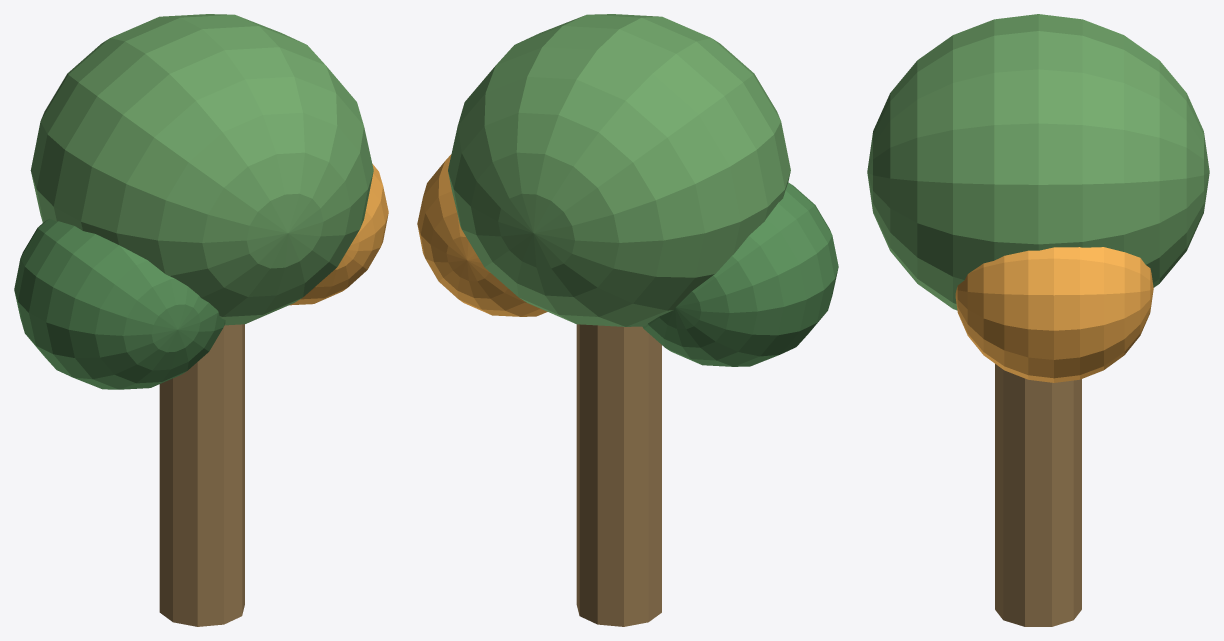
The model's file is tree.glb.
The picture shows the model from 3 angles, left to right: view 1: azimuth 30°, elevation 25°; view 2: azimuth 150°, elevation 25°; view 3: azimuth 270°, elevation 25°; orthographic projection.
Visible parts, largest first — view 1: Leaves1, Leaves2, Trunk, Leaves3; view 2: Leaves1, Trunk, Leaves2, Leaves3; view 3: Leaves1, Trunk, Leaves3.
Part boxes in pixels (left/top/right/bottom): Leaves1: left=30, top=14, right=373, bottom=325; Leaves2: left=14, top=218, right=225, bottom=389; Trunk: left=159, top=324, right=244, bottom=626; Leaves3: left=289, top=164, right=388, bottom=305; Leaves1: left=448, top=14, right=790, bottom=326; Trunk: left=576, top=324, right=661, bottom=626; Leaves2: left=642, top=182, right=838, bottom=366; Leaves3: left=417, top=154, right=547, bottom=316; Leaves1: left=867, top=14, right=1209, bottom=310; Trunk: left=995, top=364, right=1081, bottom=626; Leaves3: left=955, top=247, right=1153, bottom=382.
Bounding box in the file's own units: 1.37 × 2.05 × 1.1.
